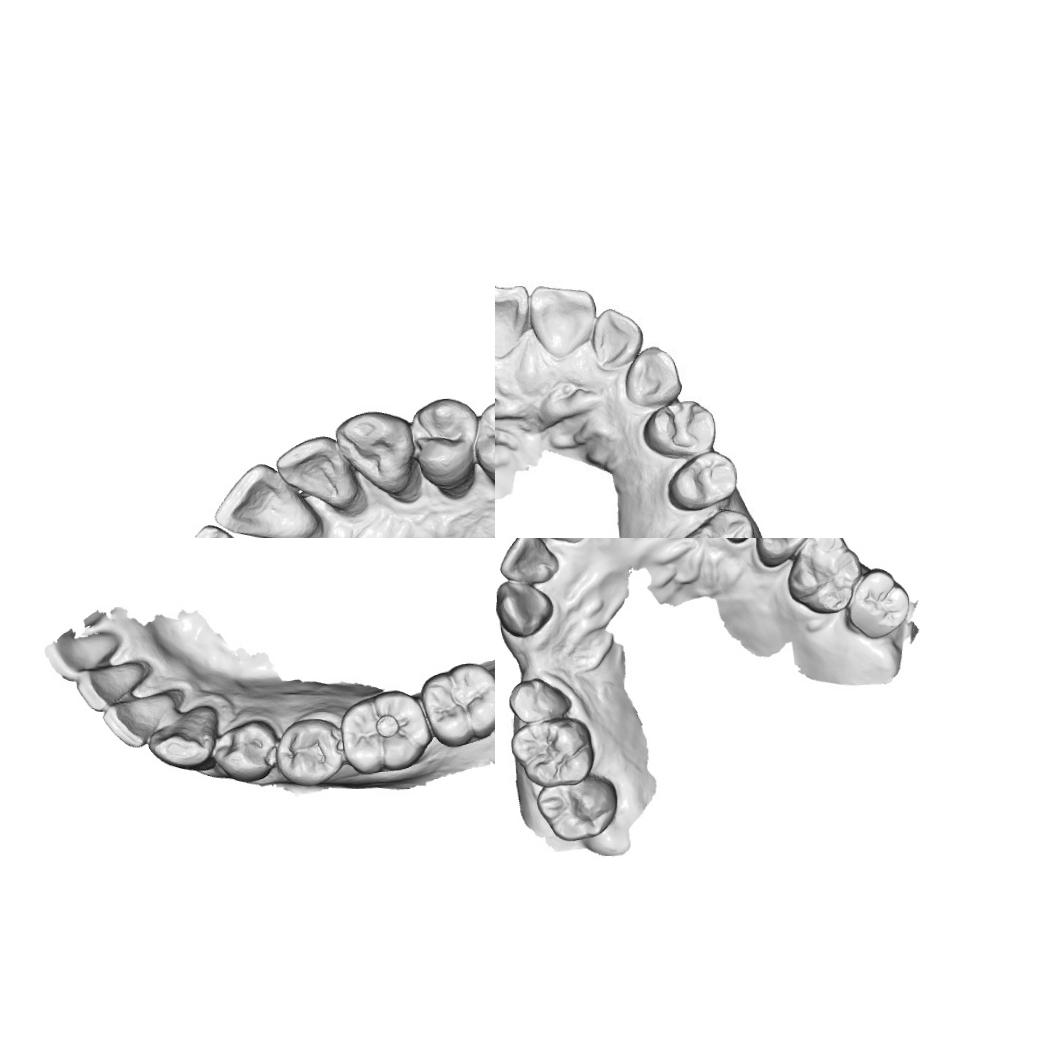canine: (334, 408, 416, 498), (145, 702, 216, 772), (495, 576, 556, 642), (621, 345, 682, 410)
incisor: (211, 459, 325, 538), (272, 434, 362, 510), (530, 284, 594, 358), (100, 688, 176, 750), (43, 630, 124, 682), (72, 662, 148, 712), (495, 538, 558, 587), (592, 303, 638, 363), (495, 280, 529, 349)
molar: (340, 688, 430, 777), (420, 659, 495, 748), (508, 716, 598, 788), (784, 538, 862, 615), (533, 775, 621, 843), (844, 564, 912, 640), (670, 506, 767, 538)
premolar: (408, 396, 478, 486), (641, 398, 716, 461), (210, 718, 278, 782), (664, 452, 736, 512), (278, 718, 341, 785), (506, 674, 575, 724), (471, 396, 495, 479), (752, 538, 814, 568)
